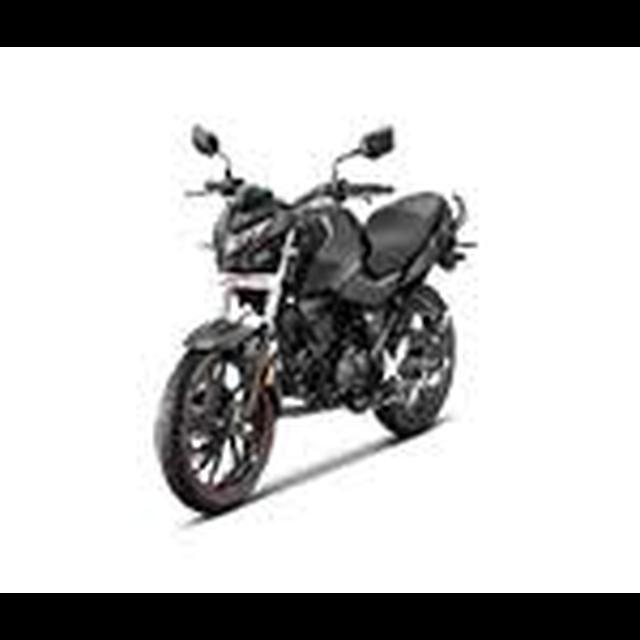motorcycle: (153, 117, 482, 520)
